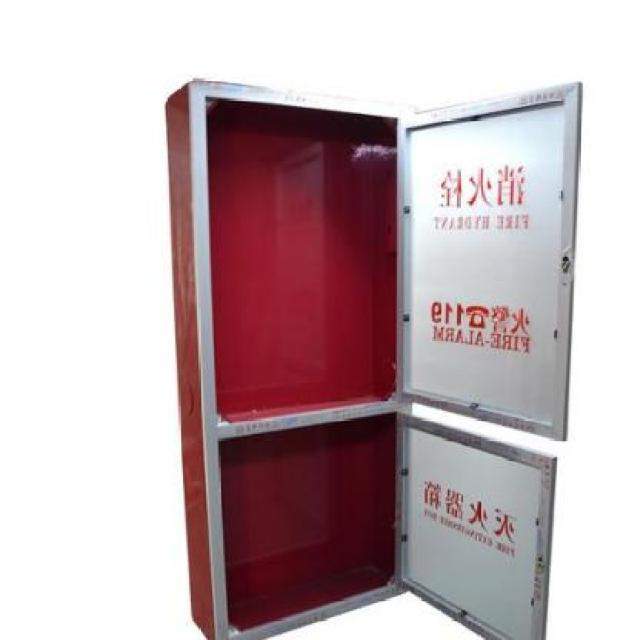firehydrant: (160, 72, 588, 640)
